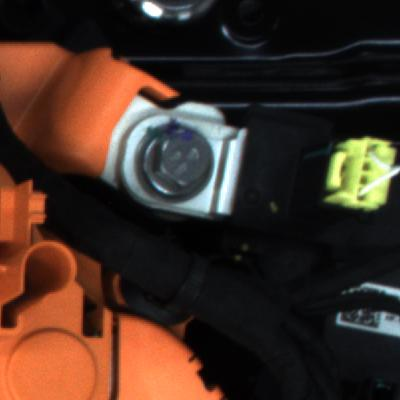nut_b: (132, 119, 227, 206)
